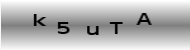5: (56, 21, 70, 35)
A: (134, 12, 153, 27)
T: (109, 20, 123, 34)
k: (33, 12, 46, 27)
u: (85, 24, 99, 36)
